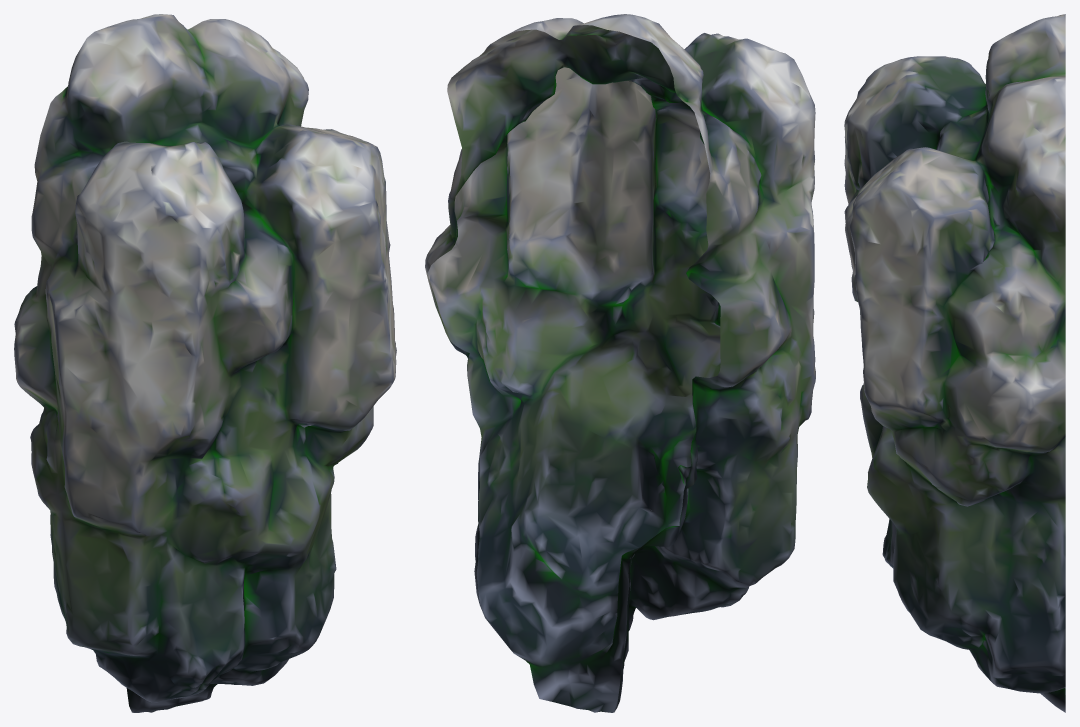
The model's file is M_Cliff_Rock_T13.fbx.
The picture shows the model from 3 angles, left to right: view 1: azimuth 30°, elevation 25°; view 2: azimuth 150°, elevation 25°; view 3: azimuth 270°, elevation 25°; orthographic projection. The views are drawn at different scales.
Visible parts, largest first — view 1: M_Cliff_Rock_T13; view 2: M_Cliff_Rock_T13; view 3: M_Cliff_Rock_T13.
Part boxes in pixels (x1,y1,x2,y2): M_Cliff_Rock_T13: (14, 14, 396, 712); M_Cliff_Rock_T13: (425, 14, 815, 712); M_Cliff_Rock_T13: (844, 14, 1065, 712).
Bounding box in the file's own units: 12.08 × 23.11 × 7.05.
